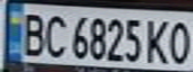2: (106, 15, 127, 63)
5: (124, 15, 145, 64)
6: (66, 12, 90, 60)
8: (87, 14, 109, 62)
B: (15, 8, 48, 57)
C: (39, 10, 69, 58)
K: (142, 16, 172, 65)
O: (163, 17, 193, 65)
